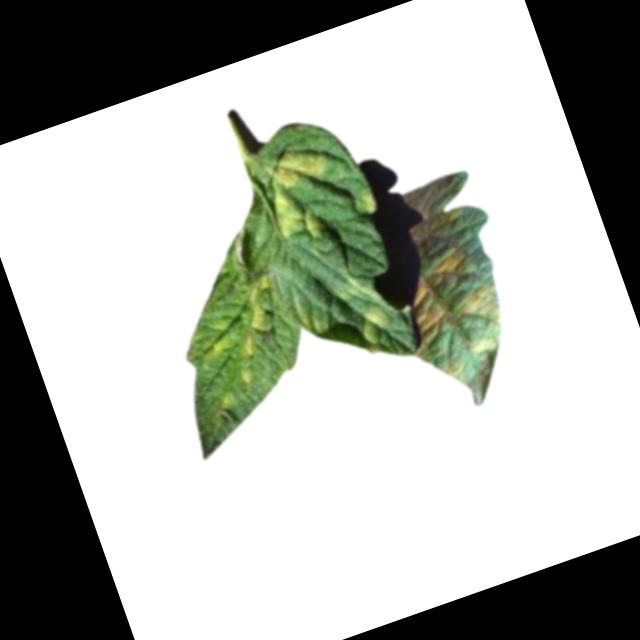Leaf_Mold: (385, 239, 523, 389), (186, 273, 301, 393), (255, 140, 346, 252), (355, 303, 403, 350), (353, 185, 381, 216)
